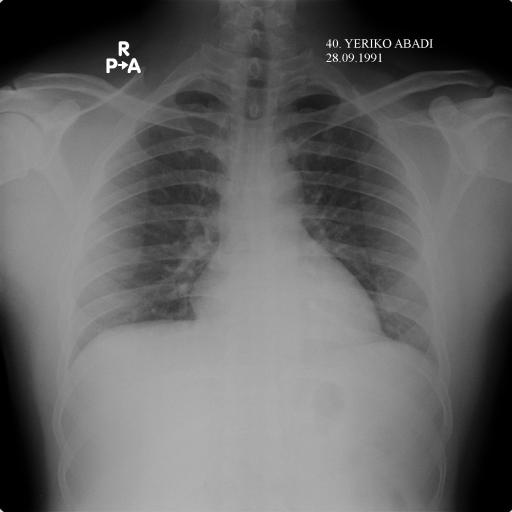kardiomegali: (50, 37, 442, 375)
